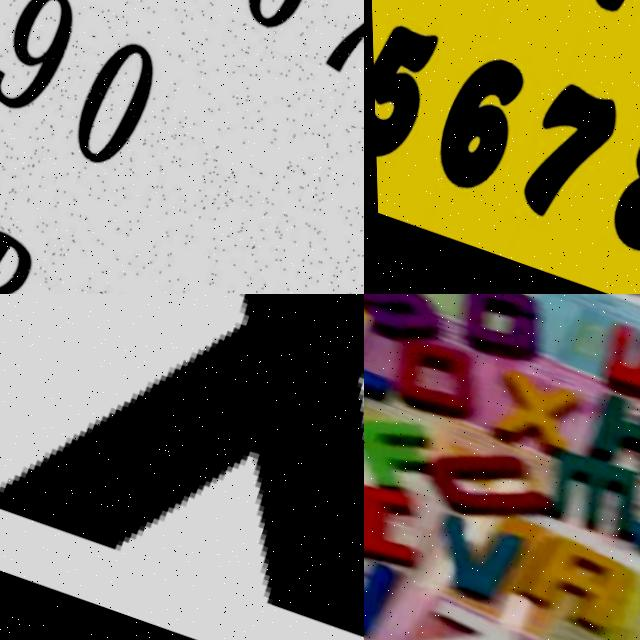0: (27, 2, 205, 201)
5: (369, 0, 458, 184)
6: (414, 28, 544, 207), (197, 0, 364, 66)
7: (502, 57, 633, 236), (279, 0, 364, 118)
8: (589, 90, 640, 272)
9: (0, 0, 114, 146)
F: (364, 393, 449, 500)
G: (452, 294, 556, 373)
I: (364, 469, 427, 569)
K: (578, 389, 640, 486)
M: (533, 447, 640, 550)
N: (364, 529, 405, 640)
O: (382, 331, 487, 427)
R: (513, 526, 640, 640)
S: (364, 294, 456, 354)
T: (364, 349, 394, 439)
U: (421, 431, 555, 533)
V: (409, 503, 530, 613)
W: (589, 321, 640, 420)
X: (0, 294, 364, 640), (476, 363, 593, 462)
Z: (389, 593, 523, 640)
